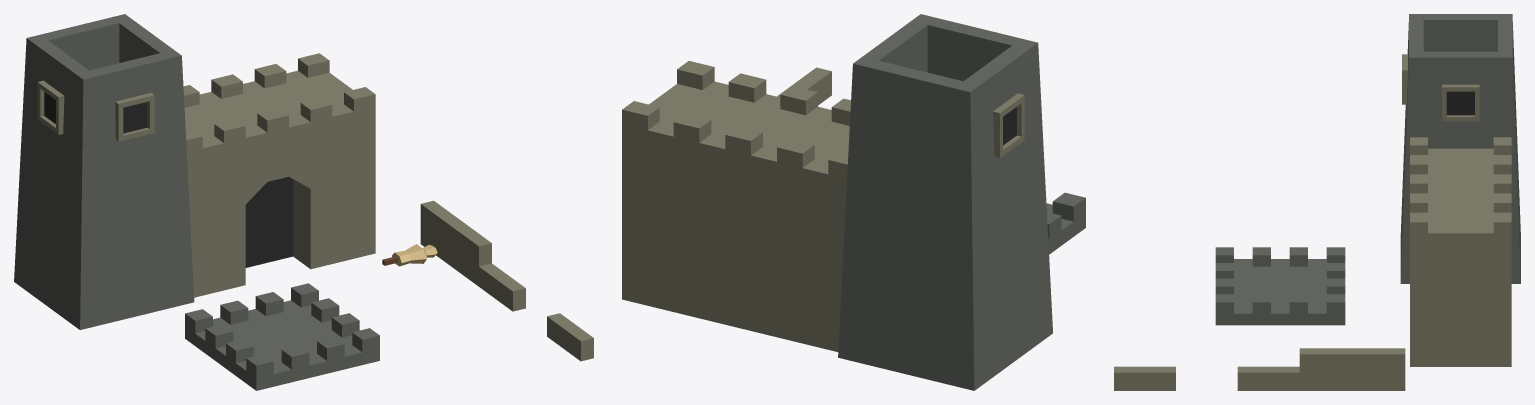
Rendered from Barracks_build_mat.fbx.
3 renders of one model, left to right at view 1: azimuth 30°, elevation 25°; view 2: azimuth 150°, elevation 25°; view 3: azimuth 270°, elevation 25°, orthographic. The views are drawn at different scales.
Parts seen in each view (by area): view 1: Barracks_build_mat; view 2: Barracks_build_mat; view 3: Barracks_build_mat.
Boxes of the visible parts, x1,y1,x2,y2 form: Barracks_build_mat: [14, 14, 593, 390]; Barracks_build_mat: [622, 14, 1085, 390]; Barracks_build_mat: [1114, 14, 1520, 390].
Size of the model in its own units: 647 by 433 by 703.
